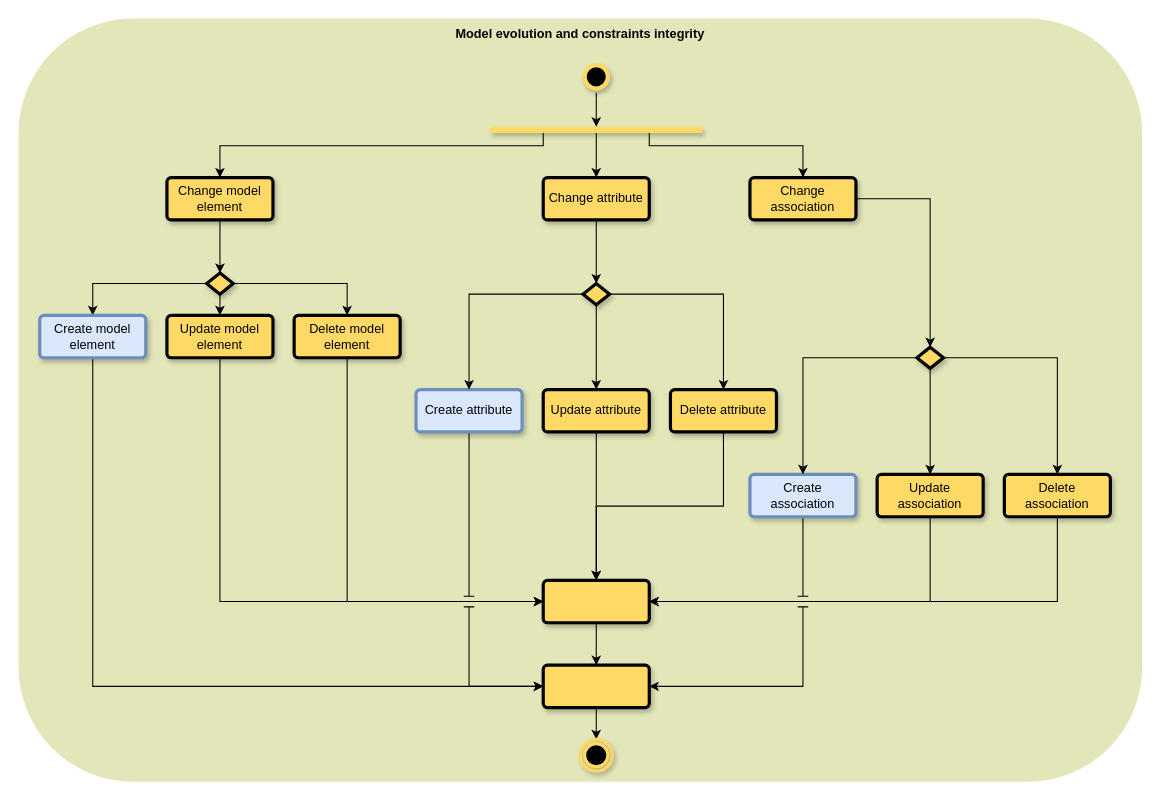
The diagram is 1160 pixels wide and 799 high, and some of its shapes have lost their labels. Each missing label, with the centre of its shape:
Persist changes: [597,687]
Synchronize constraints: [597,602]
